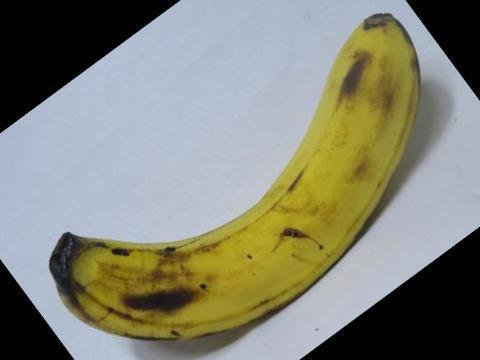ripe: (44, 1, 432, 359)
